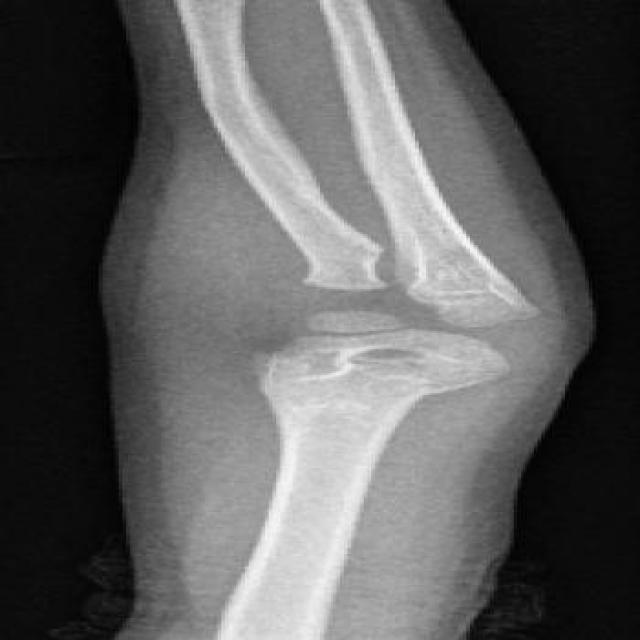Fracture: (274, 264, 424, 380)
